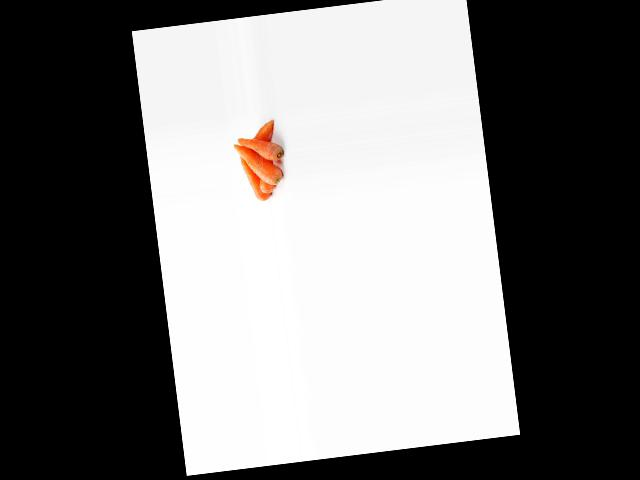carrot: (238, 131, 285, 165)
